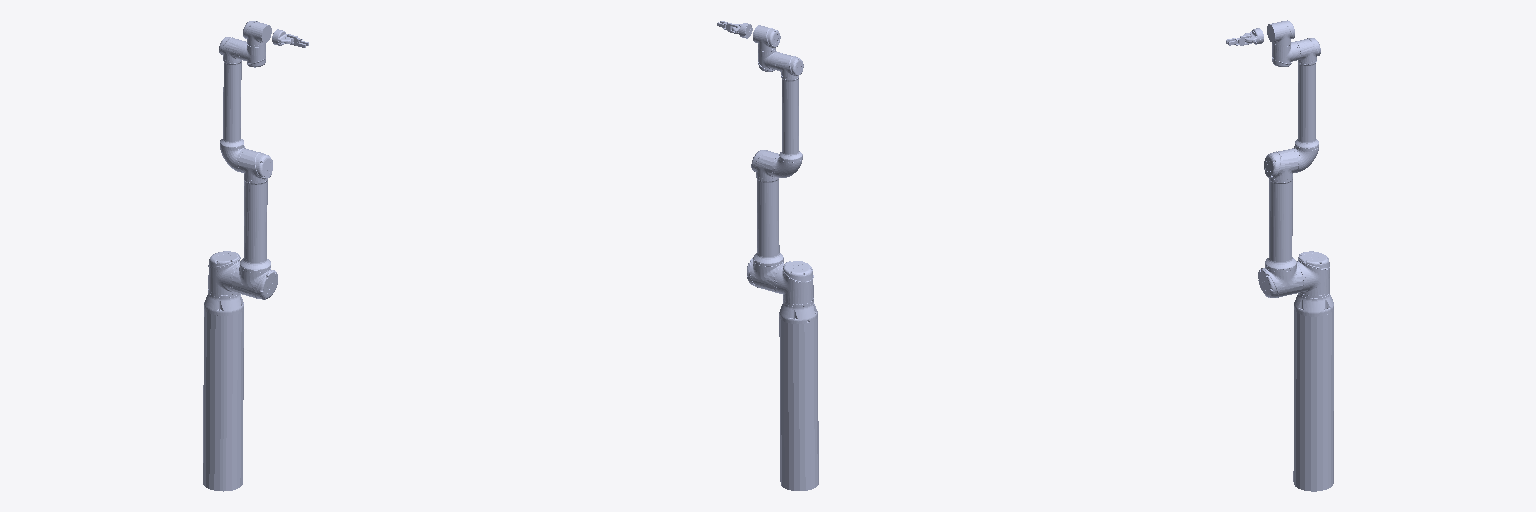
The robot description file, URDF, robot "barista_robot":
<?xml version="1.0" encoding="utf-8"?>
<!-- This URDF was automatically created by SolidWorks to URDF Exporter! Originally created by [author] ([email redacted]) 
     Commit Version: 1.6.0-4-g7f85cfe  Build Version: 1.6.7995.38578
     For more information, please see http://wiki.ros.org/sw_urdf_exporter -->
<robot
  name="barista_robot">
  <link
    name="base_link">
    <inertial>
      <origin
        xyz="0.00383011072526205 0.457157273514301 -0.000928737788211971"
        rpy="0 0 0" />
      <mass
        value="26.0610113726114" />
      <inertia
        ixx="1.87464355002268"
        ixy="-0.014715478905658"
        ixz="2.53087124754718E-05"
        iyy="0.11834660940371"
        iyz="0.00356830501660723"
        izz="1.87476517415076" />
    </inertial>
    <visual>
      <origin
        xyz="0 0 0"
        rpy="0 0 0" />
      <geometry>
        <mesh
          filename="package://barista_robot/meshes/base_link.STL" />
      </geometry>
      <material
        name="">
        <color
          rgba="0.792156862745098 0.819607843137255 0.933333333333333 1" />
      </material>
    </visual>
    <collision>
      <origin
        xyz="0 0 0"
        rpy="0 0 0" />
      <geometry>
        <mesh
          filename="package://barista_robot/meshes/base_link.STL" />
      </geometry>
    </collision>
  </link>
  <link
    name="robot_base">
    <inertial>
      <origin
        xyz="-8.25728228697759E-05 0.0620784408679793 -0.00108614239219215"
        rpy="0 0 0" />
      <mass
        value="1.20836476144405" />
      <inertia
        ixx="0.0031562038651467"
        ixy="-2.7668784170352E-06"
        ixz="-8.66772096465901E-07"
        iyy="0.00496373152249205"
        iyz="-5.19354690470229E-05"
        izz="0.00358674288427154" />
    </inertial>
    <visual>
      <origin
        xyz="0 0 0"
        rpy="0 0 0" />
      <geometry>
        <mesh
          filename="package://barista_robot/meshes/robot_base.STL" />
      </geometry>
      <material
        name="">
        <color
          rgba="0.792156862745098 0.819607843137255 0.933333333333333 1" />
      </material>
    </visual>
    <collision>
      <origin
        xyz="0 0 0"
        rpy="0 0 0" />
      <geometry>
        <mesh
          filename="package://barista_robot/meshes/robot_base.STL" />
      </geometry>
    </collision>
  </link>
  <joint
    name="robot_base_joint"
    type="continuous">
    <origin
      xyz="0.00764723572178816 0.00185432675440543 0.912764586526285"
      rpy="1.56875557980304 0.00837565350850774 -0.00110679099009043" />
    <parent
      link="base_link" />
    <child
      link="robot_base" />
    <axis
      xyz="0 1 0" />
  </joint>
  <link
    name="Link_1">
    <inertial>
      <origin
        xyz="5.29382164110885E-08 0.0850432466695747 0.0128932752104662"
        rpy="0 0 0" />
      <mass
        value="3.50205715504707" />
      <inertia
        ixx="0.0144417466716968"
        ixy="-1.76720854918966E-07"
        ixz="1.27033528348874E-07"
        iyy="0.0120175511780906"
        iyz="-0.000178584855651563"
        izz="0.0128349355041157" />
    </inertial>
    <visual>
      <origin
        xyz="0 0 0"
        rpy="0 0 0" />
      <geometry>
        <mesh
          filename="package://barista_robot/meshes/Link_1.STL" />
      </geometry>
      <material
        name="">
        <color
          rgba="0.792156862745098 0.819607843137255 0.933333333333333 1" />
      </material>
    </visual>
    <collision>
      <origin
        xyz="0 0 0"
        rpy="0 0 0" />
      <geometry>
        <mesh
          filename="package://barista_robot/meshes/Link_1.STL" />
      </geometry>
    </collision>
  </link>
  <joint
    name="link_1_joint"
    type="continuous">
    <origin
      xyz="0 0.0992470344686496 0"
      rpy="0 0.465852120972895 0" />
    <parent
      link="robot_base" />
    <child
      link="Link_1" />
    <axis
      xyz="0 1 0" />
  </joint>
  <link
    name="link_2">
    <inertial>
      <origin
        xyz="-1.63538959695349E-06 0.211231437313278 0.152882713422171"
        rpy="0 0 0" />
      <mass
        value="5.85231057682878" />
      <inertia
        ixx="0.421785968335089"
        ixy="-4.66685653188514E-06"
        ixz="-8.61905289833986E-07"
        iyy="0.0183913104483783"
        iyz="0.000922257532907184"
        izz="0.418871238551212" />
    </inertial>
    <visual>
      <origin
        xyz="0 0 0"
        rpy="0 0 0" />
      <geometry>
        <mesh
          filename="package://barista_robot/meshes/link_2.STL" />
      </geometry>
      <material
        name="">
        <color
          rgba="0.792156862745098 0.819607843137255 0.933333333333333 1" />
      </material>
    </visual>
    <collision>
      <origin
        xyz="0 0 0"
        rpy="0 0 0" />
      <geometry>
        <mesh
          filename="package://barista_robot/meshes/link_2.STL" />
      </geometry>
    </collision>
  </link>
  <joint
    name="link_2_joint"
    type="continuous">
    <origin
      xyz="0 0.0830544613923512 0.0241087363932672"
      rpy="0 0 0" />
    <parent
      link="Link_1" />
    <child
      link="link_2" />
    <axis
      xyz="0 0 1" />
  </joint>
  <link
    name="link_3">
    <inertial>
      <origin
        xyz="1.53109355368816E-06 0.265809569731614 0.0201295876103251"
        rpy="0 0 0" />
      <mass
        value="4.62234527435744" />
      <inertia
        ixx="0.198422158289813"
        ixy="4.85999774938072E-06"
        ixz="-1.51825927212357E-07"
        iyy="0.00626605018267435"
        iyz="0.00588106796982974"
        izz="0.197534306912721" />
    </inertial>
    <visual>
      <origin
        xyz="0 0 0"
        rpy="0 0 0" />
      <geometry>
        <mesh
          filename="package://barista_robot/meshes/link_3.STL" />
      </geometry>
      <material
        name="">
        <color
          rgba="0.792156862745098 0.819607843137255 0.933333333333333 1" />
      </material>
    </visual>
    <collision>
      <origin
        xyz="0 0 0"
        rpy="0 0 0" />
      <geometry>
        <mesh
          filename="package://barista_robot/meshes/link_3.STL" />
      </geometry>
    </collision>
  </link>
  <joint
    name="link_3_joint"
    type="continuous">
    <origin
      xyz="0 0.6126 0"
      rpy="0 0 0" />
    <parent
      link="link_2" />
    <child
      link="link_3" />
    <axis
      xyz="0 0 1" />
  </joint>
  <link
    name="link_4">
    <inertial>
      <origin
        xyz="-1.65259348634903E-06 0.00153989303001056 0.134078404594346"
        rpy="0 0 0" />
      <mass
        value="0.952055695094421" />
      <inertia
        ixx="0.00181788273241634"
        ixy="1.83047467793671E-08"
        ixz="-2.83696234279008E-08"
        iyy="0.00150425784631242"
        iyz="-4.60370789807922E-05"
        izz="0.00132306977062697" />
    </inertial>
    <visual>
      <origin
        xyz="0 0 0"
        rpy="0 0 0" />
      <geometry>
        <mesh
          filename="package://barista_robot/meshes/link_4.STL" />
      </geometry>
      <material
        name="">
        <color
          rgba="0.792156862745098 0.819607843137255 0.933333333333333 1" />
      </material>
    </visual>
    <collision>
      <origin
        xyz="0 0 0"
        rpy="0 0 0" />
      <geometry>
        <mesh
          filename="package://barista_robot/meshes/link_4.STL" />
      </geometry>
    </collision>
  </link>
  <joint
    name="link_4_joint"
    type="continuous">
    <origin
      xyz="0 0.571549999999962 0"
      rpy="0 0 0" />
    <parent
      link="link_3" />
    <child
      link="link_4" />
    <axis
      xyz="0 0 1" />
  </joint>
  <link
    name="link_5">
    <inertial>
      <origin
        xyz="1.34223381187404E-07 0.107894808228803 0.00172519954497102"
        rpy="0 0 0" />
      <mass
        value="0.852888053030417" />
      <inertia
        ixx="0.00143476123836806"
        ixy="-5.45972664424141E-09"
        ixz="4.83376041369174E-10"
        iyy="0.00122172828134366"
        iyz="-3.6765369527715E-05"
        izz="0.00112162872969263" />
    </inertial>
    <visual>
      <origin
        xyz="0 0 0"
        rpy="0 0 0" />
      <geometry>
        <mesh
          filename="package://barista_robot/meshes/link_5.STL" />
      </geometry>
      <material
        name="">
        <color
          rgba="0.792156862745098 0.819607843137255 0.933333333333333 1" />
      </material>
    </visual>
    <collision>
      <origin
        xyz="0 0 0"
        rpy="0 0 0" />
      <geometry>
        <mesh
          filename="package://barista_robot/meshes/link_5.STL" />
      </geometry>
    </collision>
  </link>
  <joint
    name="link_5_joint"
    type="continuous">
    <origin
      xyz="0 0.00233145785499556 0.150041263606732"
      rpy="0 0 0" />
    <parent
      link="link_4" />
    <child
      link="link_5" />
    <axis
      xyz="0 1 0" />
  </joint>
  <link
    name="link_6">
    <inertial>
      <origin
        xyz="2.85180504211446E-10 -0.000111459403921987 0.063997325614578"
        rpy="0 0 0" />
      <mass
        value="0.350250328419854" />
      <inertia
        ixx="0.000263769355605864"
        ixy="-1.01386731965036E-11"
        ixz="2.90992084622148E-12"
        iyy="0.000265234926115791"
        iyz="8.5437848692158E-09"
        izz="0.000346928634455195" />
    </inertial>
    <visual>
      <origin
        xyz="0 0 0"
        rpy="0 0 0" />
      <geometry>
        <mesh
          filename="package://barista_robot/meshes/link_6.STL" />
      </geometry>
      <material
        name="">
        <color
          rgba="0.792156862745098 0.819607843137255 0.933333333333333 1" />
      </material>
    </visual>
    <collision>
      <origin
        xyz="0 0 0"
        rpy="0 0 0" />
      <geometry>
        <mesh
          filename="package://barista_robot/meshes/link_6.STL" />
      </geometry>
    </collision>
  </link>
  <joint
    name="link_6_joint"
    type="continuous">
    <origin
      xyz="0 0.117518542145004 0.0206672208045864"
      rpy="0 0 0" />
    <parent
      link="link_5" />
    <child
      link="link_6" />
    <axis
      xyz="0 0 1" />
  </joint>
  <link
    name="gripper_base_link">
    <inertial>
      <origin
        xyz="0.000286947812769195 0.0323397938062878 0.000129565490909034"
        rpy="0 0 0" />
      <mass
        value="0.225884622718037" />
      <inertia
        ixx="0.000175809669054233"
        ixy="3.37704859759827E-10"
        ixz="-8.43224085868407E-09"
        iyy="0.000134409051318404"
        iyz="-1.12870838011563E-07"
        izz="0.000200275872126956" />
    </inertial>
    <visual>
      <origin
        xyz="0 0 0"
        rpy="0 0 0" />
      <geometry>
        <mesh
          filename="package://barista_robot/meshes/gripper_base_link.STL" />
      </geometry>
      <material
        name="">
        <color
          rgba="0.792156862745098 0.819607843137255 0.933333333333333 1" />
      </material>
    </visual>
    <collision>
      <origin
        xyz="0 0 0"
        rpy="0 0 0" />
      <geometry>
        <mesh
          filename="package://barista_robot/meshes/gripper_base_link.STL" />
      </geometry>
    </collision>
  </link>
  <joint
    name="gripper_base_link_joint"
    type="fixed">
    <origin
      xyz="0.000287511446909107 -0.000106872909688249 0.0891237823243255"
      rpy="1.57079632679491 0 -3.14159265358978" />
    <parent
      link="link_6" />
    <child
      link="gripper_base_link" />
    <axis
      xyz="0 0 0" />
  </joint>
  <link
    name="left_finger_1">
    <inertial>
      <origin
        xyz="0.0362255356799374 6.97146507189217E-11 -4.1873036241924E-05"
        rpy="0 0 0" />
      <mass
        value="0.0276813354629505" />
      <inertia
        ixx="6.64066668853769E-06"
        ixy="-5.31597005252863E-14"
        ixz="-1.5810148061105E-14"
        iyy="1.70445818730747E-05"
        iyz="1.1397708952873E-11"
        izz="1.11317984671145E-05" />
    </inertial>
    <visual>
      <origin
        xyz="0 0 0"
        rpy="0 0 0" />
      <geometry>
        <mesh
          filename="package://barista_robot/meshes/left_finger_1.STL" />
      </geometry>
      <material
        name="">
        <color
          rgba="0.792156862745098 0.819607843137255 0.933333333333333 1" />
      </material>
    </visual>
    <collision>
      <origin
        xyz="0 0 0"
        rpy="0 0 0" />
      <geometry>
        <mesh
          filename="package://barista_robot/meshes/left_finger_1.STL" />
      </geometry>
    </collision>
  </link>
  <joint
    name="left_finger_1_joint"
    type="continuous">
    <origin
      xyz="-0.0124124885523258 0.061436996871086 0"
      rpy="-3.14159265358979 0 1.57079632679484" />
    <parent
      link="gripper_base_link" />
    <child
      link="left_finger_1" />
    <axis
      xyz="0 0 1" />
  </joint>
  <link
    name="left_finger_2">
    <inertial>
      <origin
        xyz="0.0205613134938167 0.000122395880532533 -2.09524481098455E-10"
        rpy="0 0 0" />
      <mass
        value="0.00758717719600184" />
      <inertia
        ixx="2.63347815169584E-07"
        ixy="1.21659195212146E-13"
        ixz="-2.86602571024952E-14"
        iyy="1.51982892750926E-06"
        iyz="1.85154992517534E-13"
        izz="1.68462676953668E-06" />
    </inertial>
    <visual>
      <origin
        xyz="0 0 0"
        rpy="0 0 0" />
      <geometry>
        <mesh
          filename="package://barista_robot/meshes/left_finger_2.STL" />
      </geometry>
      <material
        name="">
        <color
          rgba="0.792156862745098 0.819607843137255 0.933333333333333 1" />
      </material>
    </visual>
    <collision>
      <origin
        xyz="0 0 0"
        rpy="0 0 0" />
      <geometry>
        <mesh
          filename="package://barista_robot/meshes/left_finger_2.STL" />
      </geometry>
    </collision>
  </link>
  <joint
    name="left_finger_2_joint"
    type="continuous">
    <origin
      xyz="0.0713429856594658 0 0"
      rpy="-1.57079632679491 0 0" />
    <parent
      link="left_finger_1" />
    <child
      link="left_finger_2" />
    <axis
      xyz="0 1 0" />
  </joint>
  <link
    name="right_finger_1">
    <inertial>
      <origin
        xyz="0.0362255356799371 6.9879990682864E-11 -4.18730362432562E-05"
        rpy="0 0 0" />
      <mass
        value="0.0276813354629504" />
      <inertia
        ixx="6.64066668853767E-06"
        ixy="-5.31596897256162E-14"
        ixz="-1.58101285346795E-14"
        iyy="1.70445818730746E-05"
        iyz="1.13977089591571E-11"
        izz="1.11317984671144E-05" />
    </inertial>
    <visual>
      <origin
        xyz="0 0 0"
        rpy="0 0 0" />
      <geometry>
        <mesh
          filename="package://barista_robot/meshes/right_finger_1.STL" />
      </geometry>
      <material
        name="">
        <color
          rgba="0.792156862745098 0.819607843137255 0.933333333333333 1" />
      </material>
    </visual>
    <collision>
      <origin
        xyz="0 0 0"
        rpy="0 0 0" />
      <geometry>
        <mesh
          filename="package://barista_robot/meshes/right_finger_1.STL" />
      </geometry>
    </collision>
  </link>
  <joint
    name="right_finger_1_joint"
    type="continuous">
    <origin
      xyz="0.0129875114476376 0.0614369968710859 0"
      rpy="-3.14159265358979 0 1.57079632679484" />
    <parent
      link="gripper_base_link" />
    <child
      link="right_finger_1" />
    <axis
      xyz="0 0 1" />
  </joint>
  <link
    name="right_finger_2">
    <inertial>
      <origin
        xyz="0.0205613134938168 0.000122395880533421 -2.0998139338424E-10"
        rpy="0 0 0" />
      <mass
        value="0.00758717719600191" />
      <inertia
        ixx="2.63347815169588E-07"
        ixy="1.21659195430935E-13"
        ixz="-2.86602532511423E-14"
        iyy="1.51982892750927E-06"
        iyz="1.85154992391802E-13"
        izz="1.6846267695367E-06" />
    </inertial>
    <visual>
      <origin
        xyz="0 0 0"
        rpy="0 0 0" />
      <geometry>
        <mesh
          filename="package://barista_robot/meshes/right_finger_2.STL" />
      </geometry>
      <material
        name="">
        <color
          rgba="0.792156862745098 0.819607843137255 0.933333333333333 1" />
      </material>
    </visual>
    <collision>
      <origin
        xyz="0 0 0"
        rpy="0 0 0" />
      <geometry>
        <mesh
          filename="package://barista_robot/meshes/right_finger_2.STL" />
      </geometry>
    </collision>
  </link>
  <joint
    name="right_finger_2"
    type="continuous">
    <origin
      xyz="0.0713429856594657 0 0"
      rpy="-1.57079632679491 0 0" />
    <parent
      link="right_finger_1" />
    <child
      link="right_finger_2" />
    <axis
      xyz="0 1 0" />
  </joint>
  <link
    name="Camera_Link">
    <inertial>
      <origin
        xyz="-1.47529211069752E-12 0.00741672113918357 -5.55111512312578E-17"
        rpy="0 0 0" />
      <mass
        value="0.00456870619569645" />
      <inertia
        ixx="1.29743486402871E-07"
        ixy="3.74260453089032E-22"
        ixz="-1.05879118406788E-22"
        iyy="4.36359662905541E-07"
        iyz="-2.04830599183443E-22"
        izz="4.6673485435427E-07" />
    </inertial>
    <visual>
      <origin
        xyz="0 0 0"
        rpy="0 0 0" />
      <geometry>
        <mesh
          filename="package://barista_robot/meshes/Camera_Link.STL" />
      </geometry>
      <material
        name="">
        <color
          rgba="0.792156862745098 0.819607843137255 0.933333333333333 1" />
      </material>
    </visual>
    <collision>
      <origin
        xyz="0 0 0"
        rpy="0 0 0" />
      <geometry>
        <mesh
          filename="package://barista_robot/meshes/Camera_Link.STL" />
      </geometry>
    </collision>
  </link>
  <joint
    name="camera_joint_link"
    type="fixed">
    <origin
      xyz="0 0.0414999999999983 0.06023277919537"
      rpy="0 0 0" />
    <parent
      link="link_6" />
    <child
      link="Camera_Link" />
    <axis
      xyz="0 0 0" />
  </joint>
</robot>

--- What the picture shows (computed from the rendered views, not written in the file) ---
The picture shows the robot from 3 angles, left to right: view 1: azimuth 30°, elevation 25°; view 2: azimuth 210°, elevation 25°; view 3: azimuth 270°, elevation 25°; orthographic projection.
Robot: barista_robot — 14 links, 13 joints (11 continuous, 2 fixed); root link base_link; default pose: every joint at zero.
Visible links, largest first — view 1: base_link, link_2, link_3, Link_1, robot_base, link_5, link_4; view 2: base_link, link_2, link_3, Link_1, robot_base, link_5; view 3: base_link, link_2, link_3, Link_1, robot_base, link_5, link_4.
Link boxes in pixels (x1,y1,x2,y2): base_link: (203,309,243,491); link_2: (232,149,277,299); link_3: (219,37,245,171); Link_1: (208,251,240,294); robot_base: (204,289,243,315); link_5: (243,21,271,46); link_4: (238,41,265,67); base_link: (779,317,818,490); link_2: (747,150,783,292); link_3: (772,53,803,177); Link_1: (774,261,813,303); robot_base: (779,298,817,323); link_5: (753,25,780,51); base_link: (1293,310,1333,491); link_2: (1258,149,1302,297); link_3: (1292,38,1320,172); Link_1: (1296,251,1329,295); robot_base: (1294,291,1333,316); link_5: (1267,20,1294,46); link_4: (1272,42,1300,66).
Bounding box of the posed robot: 0.3365 × 0.5111 × 2.45 m (x, y, z).
11 mesh visuals loaded from 14 distinct referenced files (11 binary STL); not drawn: 3 (reference not matched to a file when rendering).